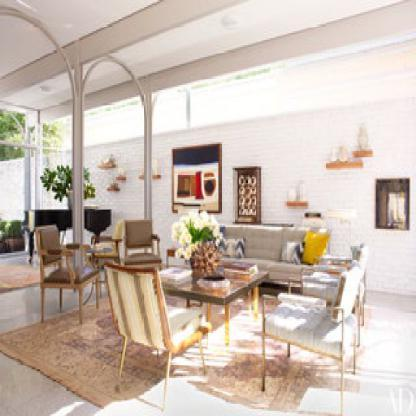chair: (84, 259, 211, 409), (253, 269, 371, 415), (17, 222, 99, 328), (304, 244, 380, 299), (119, 208, 163, 270)
sofa: (220, 223, 334, 291)
table: (163, 262, 264, 344)
